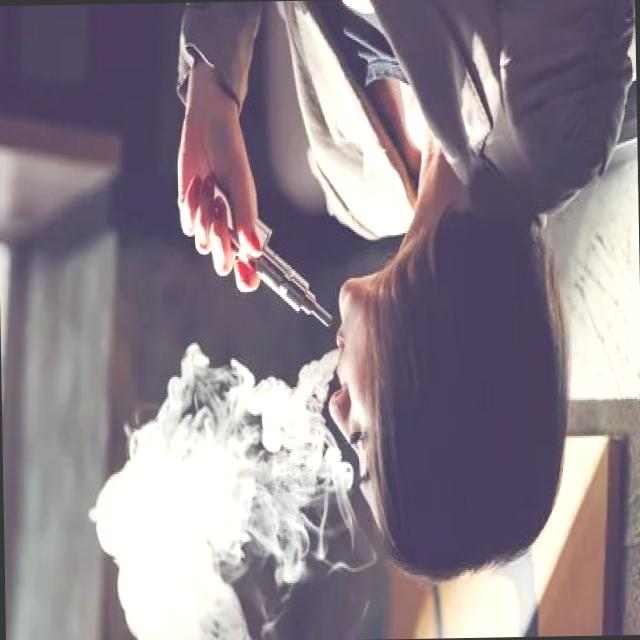cigarette: (203, 176, 334, 332)
